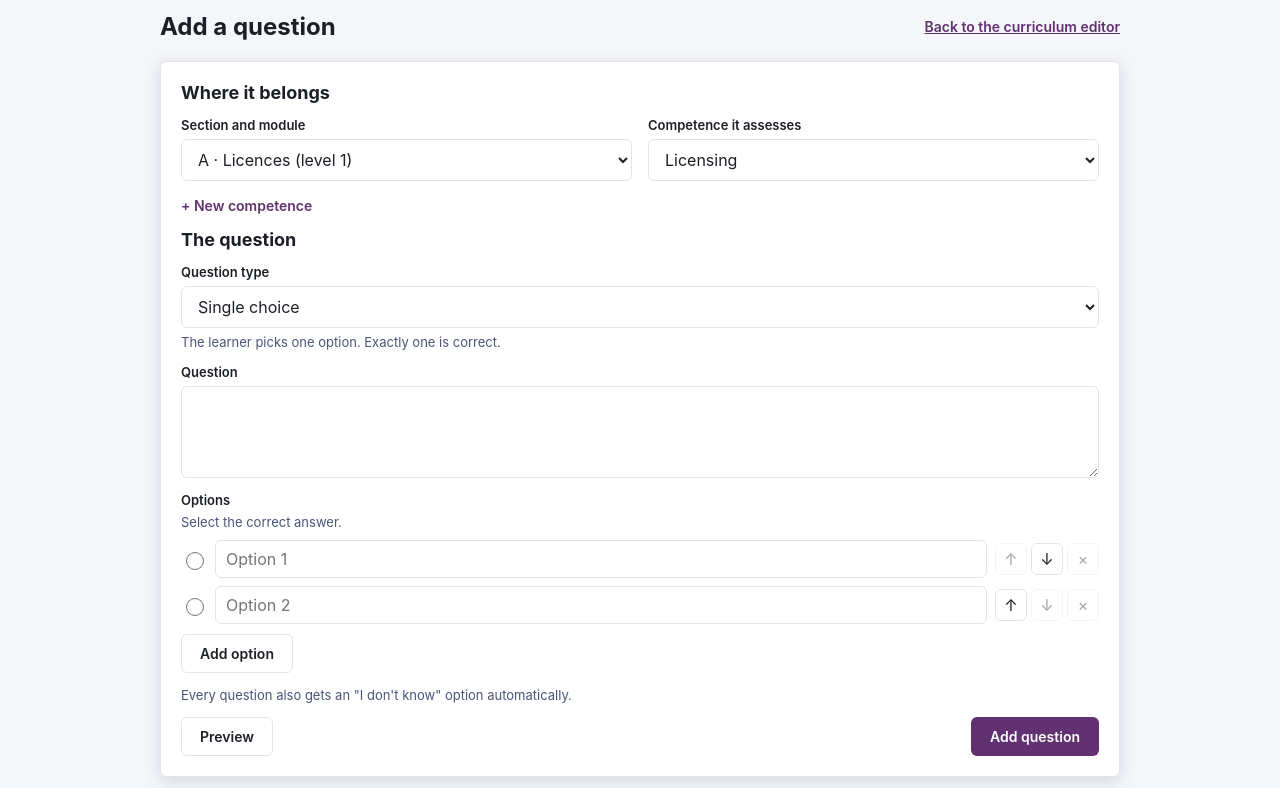
Test: QuestionEditorPage: a new question › adds a new competence on the spot and selects it
Expected: the heading "Add a question" is shown, [160, 12, 336, 41]
Click the button "+ New competence".
click(247, 206)  # box [181, 197, 312, 214]
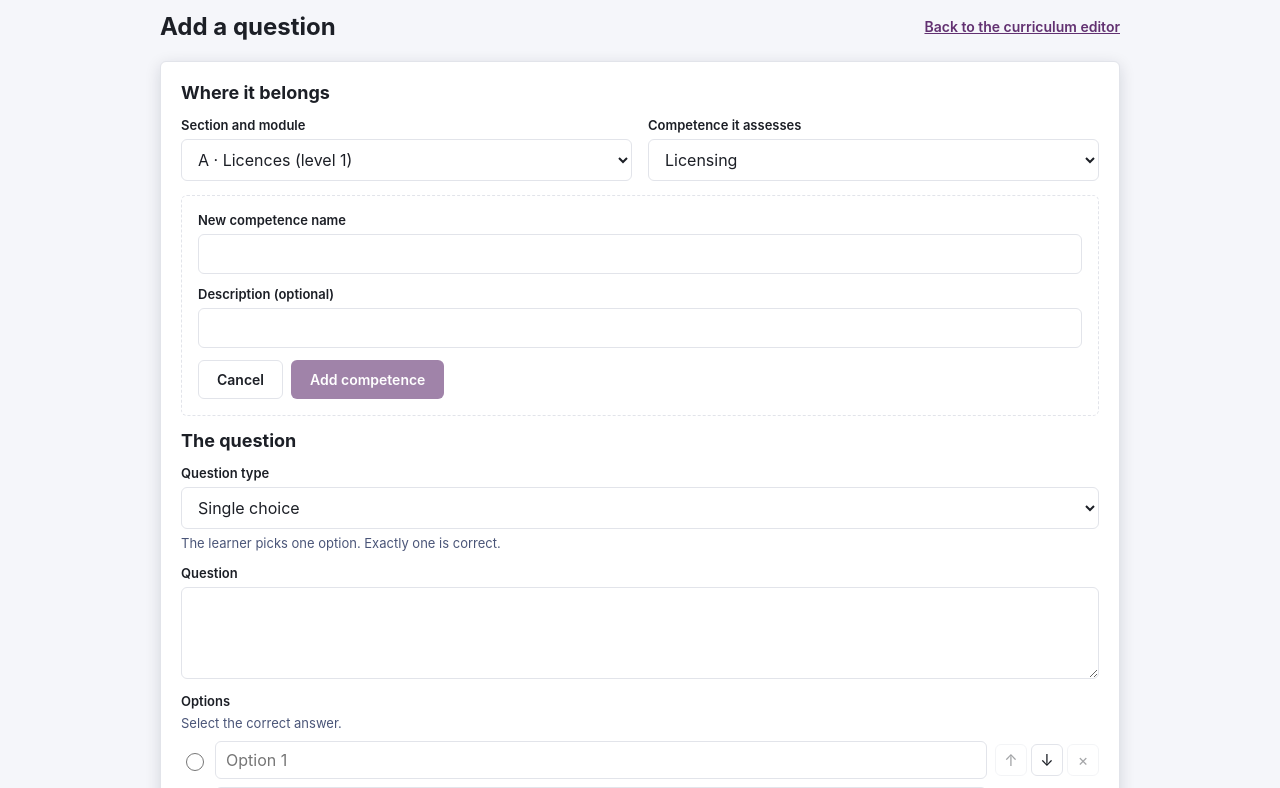
Type "Data citation" into the field labelled "New competence name".
click(640, 254); type("Data citation")  # box [198, 234, 1082, 274]
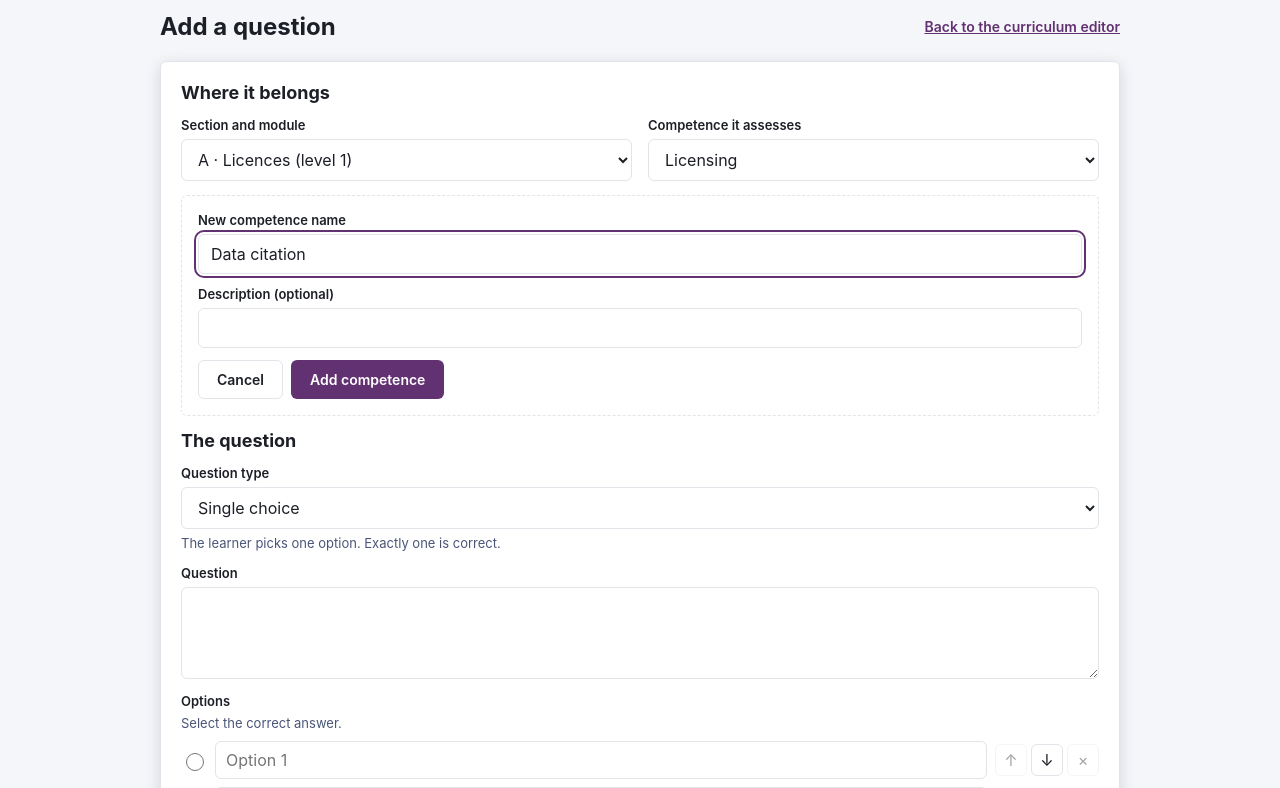
Click the button "Add competence".
click(368, 380)  # box [291, 360, 444, 399]
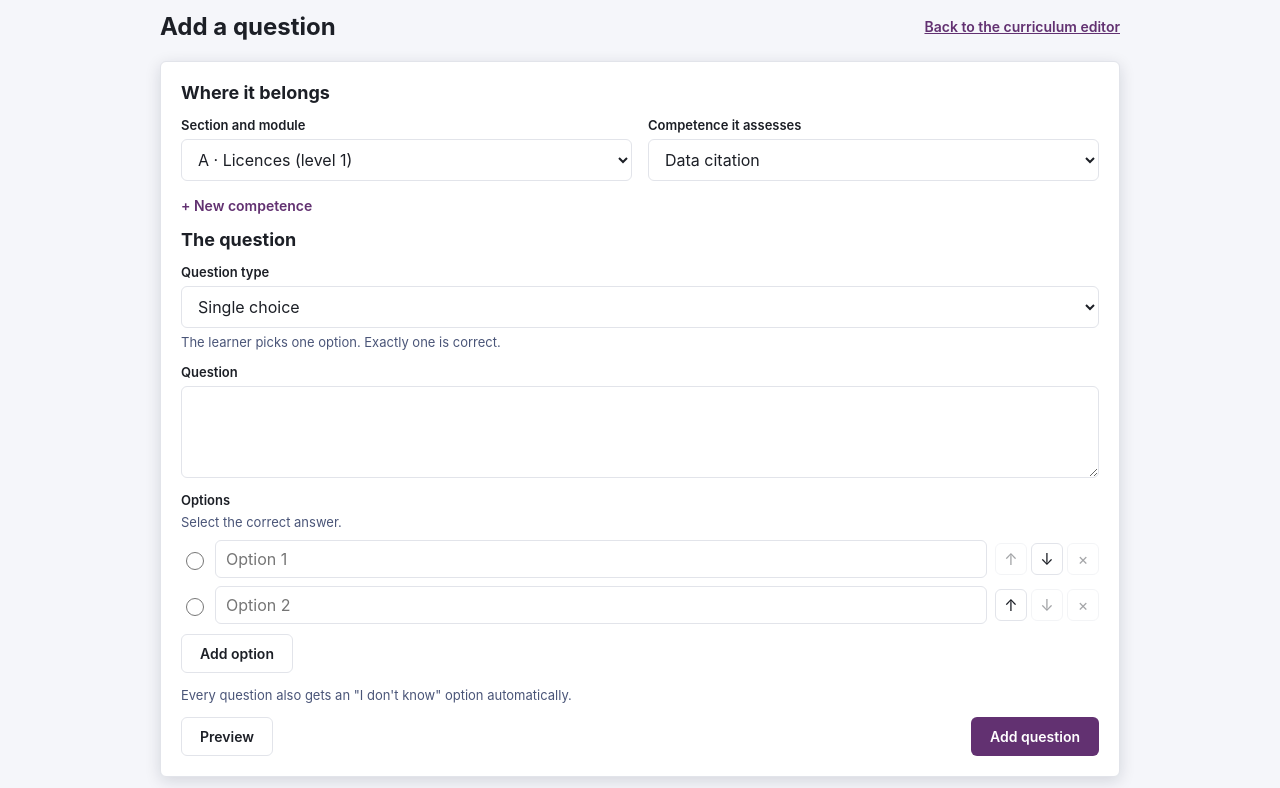
Now the dropdown labelled "Competence it assesses" shows "Data citation", box [648, 139, 1099, 181]
